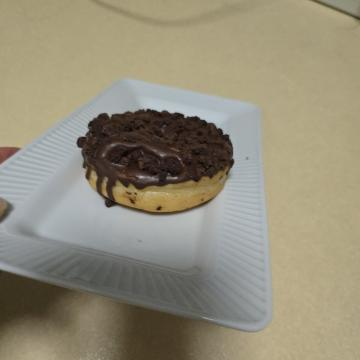doughnut: (94, 117, 226, 294)
